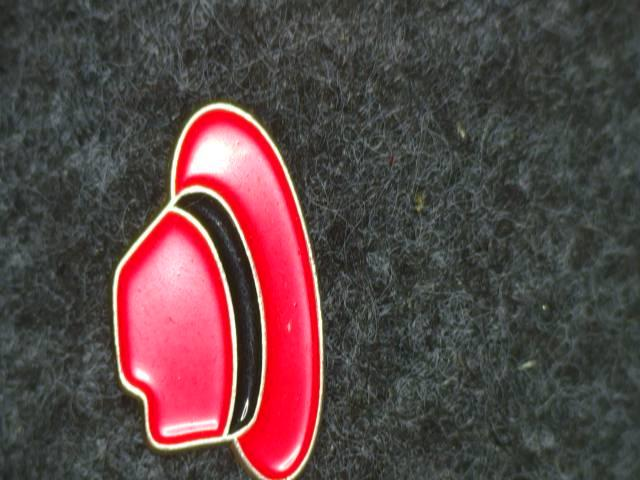Red-Hat: (90, 75, 366, 480)
